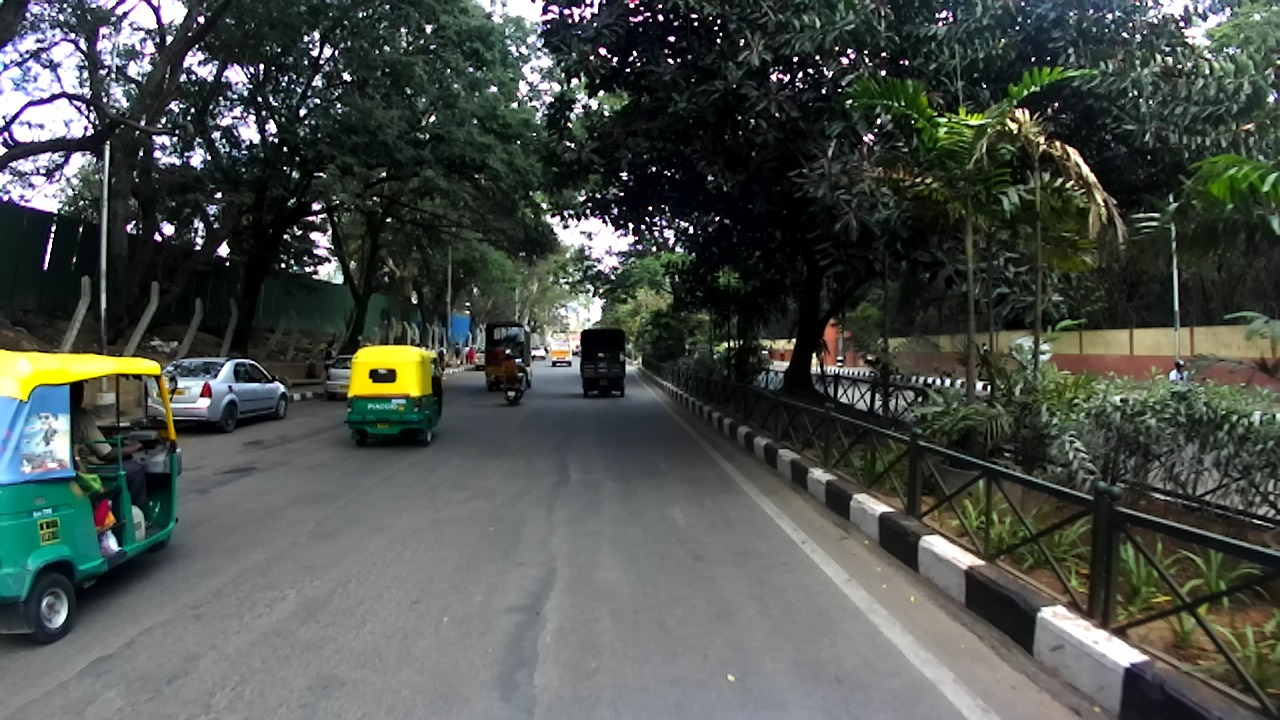autorickshaw: (1, 347, 186, 642), (341, 344, 451, 449), (580, 326, 625, 399), (484, 324, 531, 391)
car: (142, 356, 290, 433), (325, 354, 354, 401), (470, 344, 488, 372), (528, 344, 546, 361), (571, 339, 580, 357)
motorcycle: (1156, 378, 1208, 406), (502, 359, 530, 406)
person: (978, 342, 991, 383), (323, 343, 336, 383), (452, 343, 461, 368), (439, 344, 446, 374), (463, 342, 469, 367), (768, 342, 775, 361), (468, 346, 474, 367), (780, 343, 784, 363), (424, 343, 430, 352), (414, 342, 421, 349)
rider: (506, 350, 525, 393), (1169, 361, 1189, 389)
truck: (551, 335, 572, 368)
vehicle fallback: (740, 348, 772, 367)
